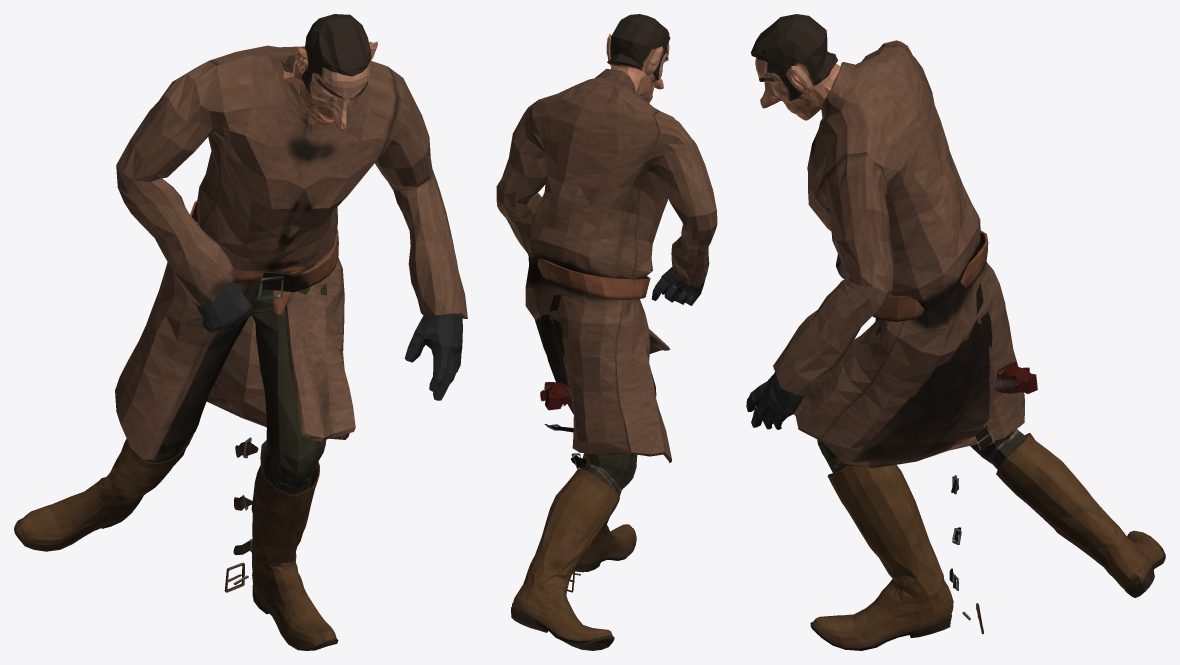
Rendered from sniper-inj-walk_joined_000017.obj.
The picture shows the model from 3 angles, left to right: view 1: azimuth 30°, elevation 25°; view 2: azimuth 150°, elevation 25°; view 3: azimuth 270°, elevation 25°; orthographic projection. The views are drawn at different scales.
Visible parts, largest first — view 1: Shoes; view 2: Shoes; view 3: Shoes.
Part boxes in pixels (x1,y1,x2,y2): Shoes: (14, 14, 467, 650); Shoes: (496, 14, 717, 650); Shoes: (746, 14, 1165, 650).
Bounding box in the file's own units: 1.09 × 2.32 × 1.41.
